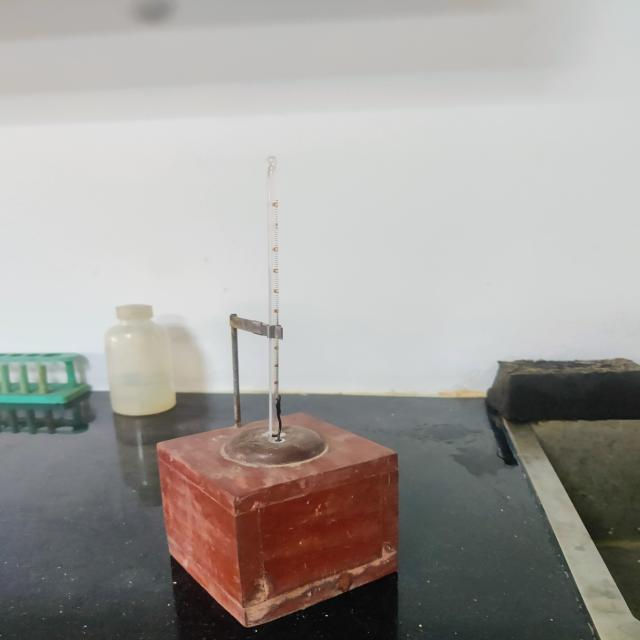Calorimeter: (120, 125, 457, 640)
